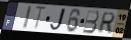6: (66, 8, 81, 34)
B: (82, 10, 100, 35)
I: (22, 5, 34, 30)
J: (49, 7, 68, 32)
R: (97, 12, 117, 34)
T: (33, 6, 48, 32)
